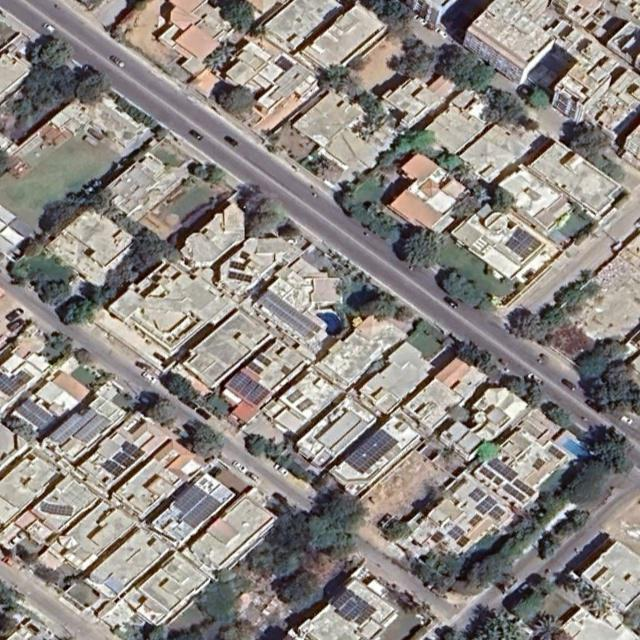solar panel: (47, 399, 113, 460), (258, 289, 322, 343), (343, 424, 400, 477), (263, 60, 312, 103), (332, 586, 378, 628), (179, 491, 222, 532), (227, 369, 271, 408), (14, 397, 54, 432), (505, 226, 543, 262), (0, 359, 32, 399), (172, 483, 207, 517), (487, 454, 520, 484), (100, 456, 126, 482), (38, 500, 74, 518), (501, 482, 527, 502), (511, 479, 536, 498), (476, 494, 497, 516), (114, 451, 135, 470), (274, 54, 295, 73), (124, 443, 144, 461), (286, 387, 305, 405), (296, 396, 314, 414), (469, 486, 487, 504), (227, 271, 254, 283), (548, 445, 567, 461), (448, 525, 465, 542), (246, 360, 264, 376), (255, 353, 273, 368), (489, 505, 505, 521), (467, 514, 483, 529), (430, 530, 444, 545), (479, 466, 495, 479), (229, 260, 246, 271), (532, 457, 545, 470), (457, 535, 470, 548), (279, 365, 291, 377), (492, 475, 503, 487), (240, 251, 250, 260)
